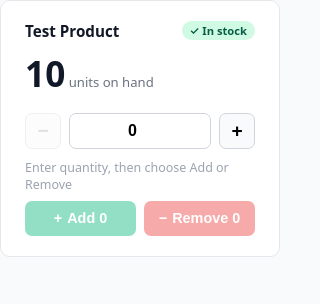
it: Part 4 — failed save › shows error when fetch itself rejects (network error)
Type "5" into the number field with class "sw__input" at (140,131), box [69,113,211,149]
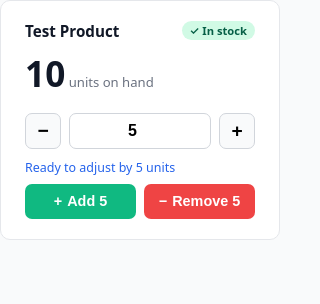
Click the button with class "sw__btn--add" at (80,201), box [25,184,136,219]
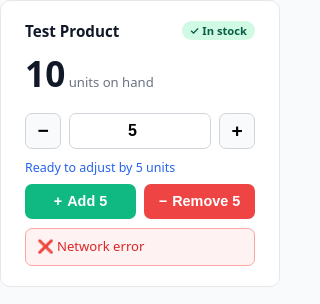
expect the text with class "sw__count-num" reads "10": met, box [25,49,65,97]
expect the message "❌ Network error" is shown: met, box [25,228,255,266]
